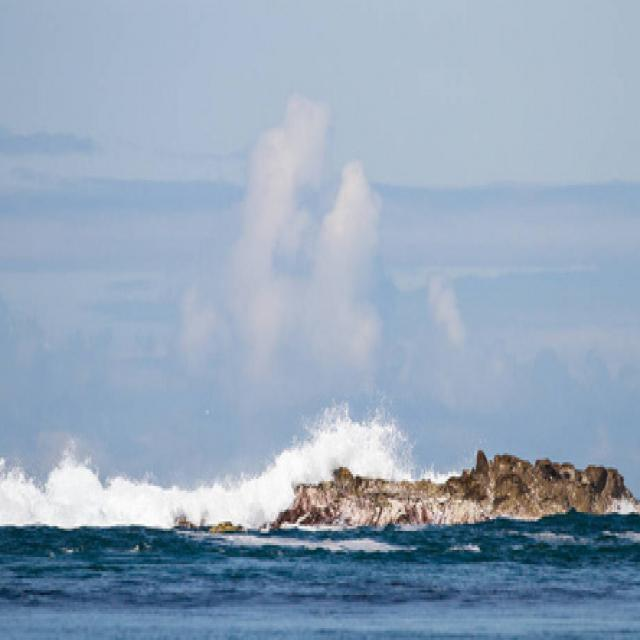reef: (290, 417, 615, 544)
